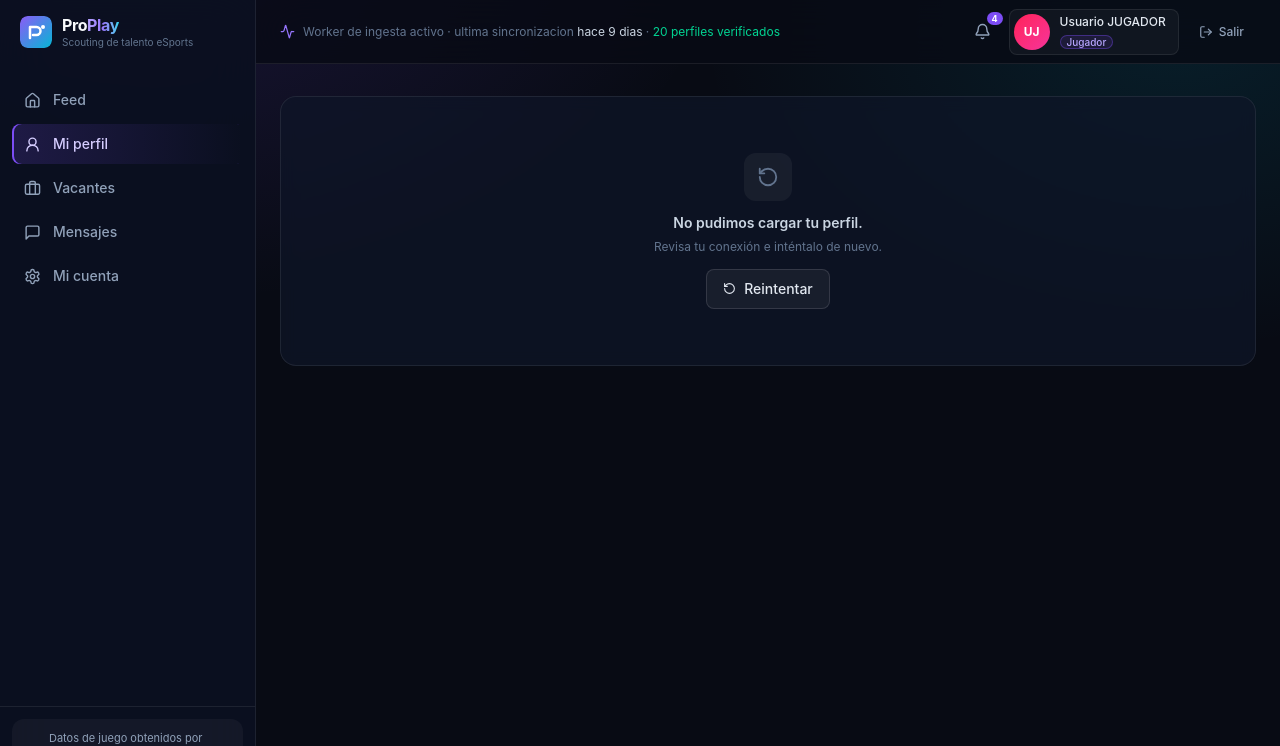
Scenario: Mi perfil › ofrece reintentar si no puede cargar el perfil
The image size is (1280, 746).
Expected: the text "No pudimos cargar tu perfil." is shown, [673,214,863,231]
What coordinates should you click on to do the following:
click the button "Reintentar"
I would click on:
 (768, 288)
Its box is [706,268,830,308].
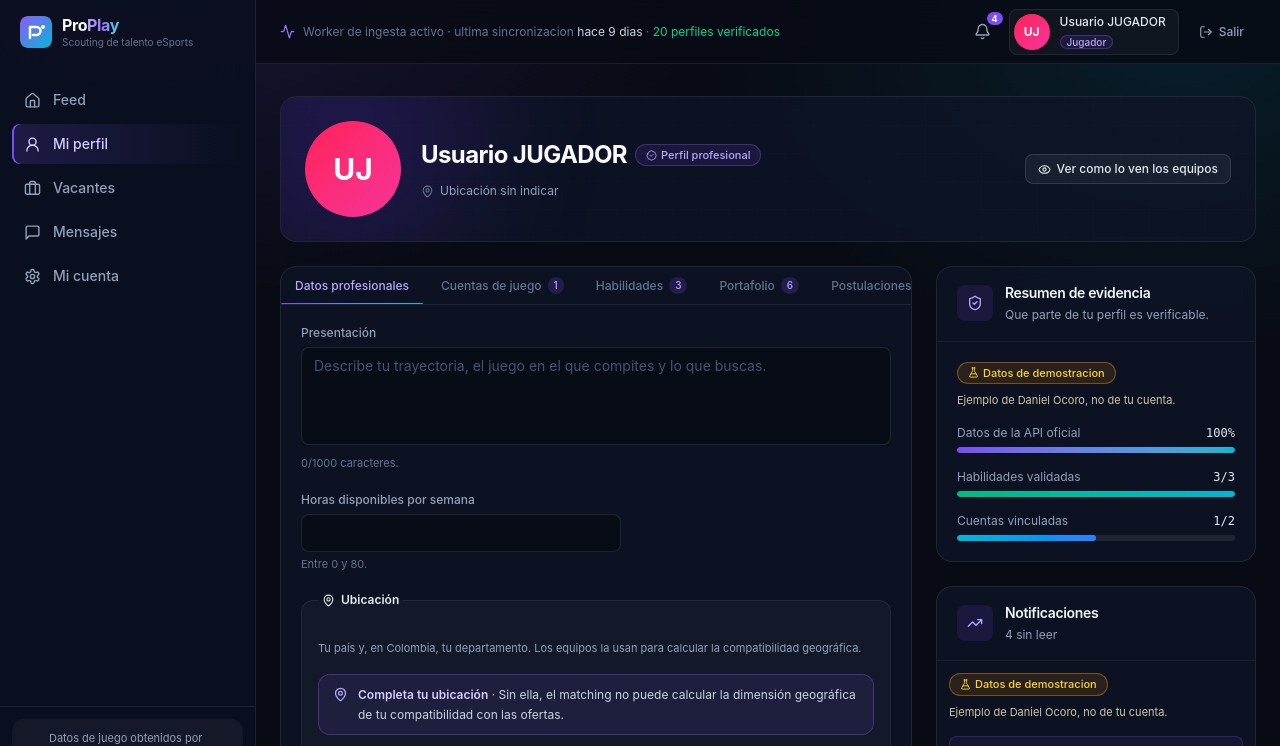
Expected: the element that starts with "Completa tu ubicación" is shown, [358,687,488,702]
